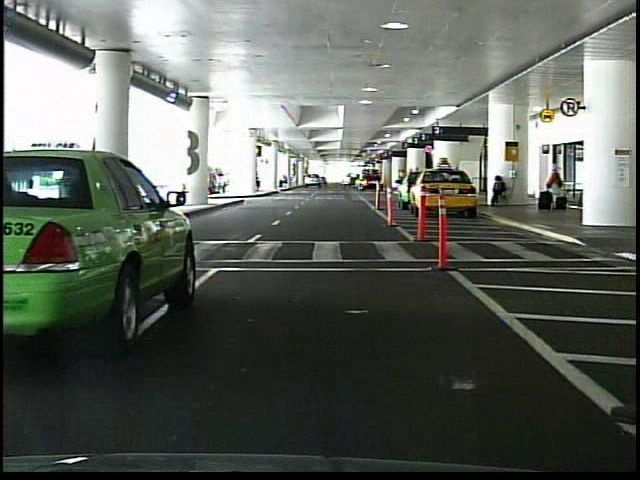person: (53, 147, 78, 228), (548, 163, 567, 212), (488, 173, 508, 207)
